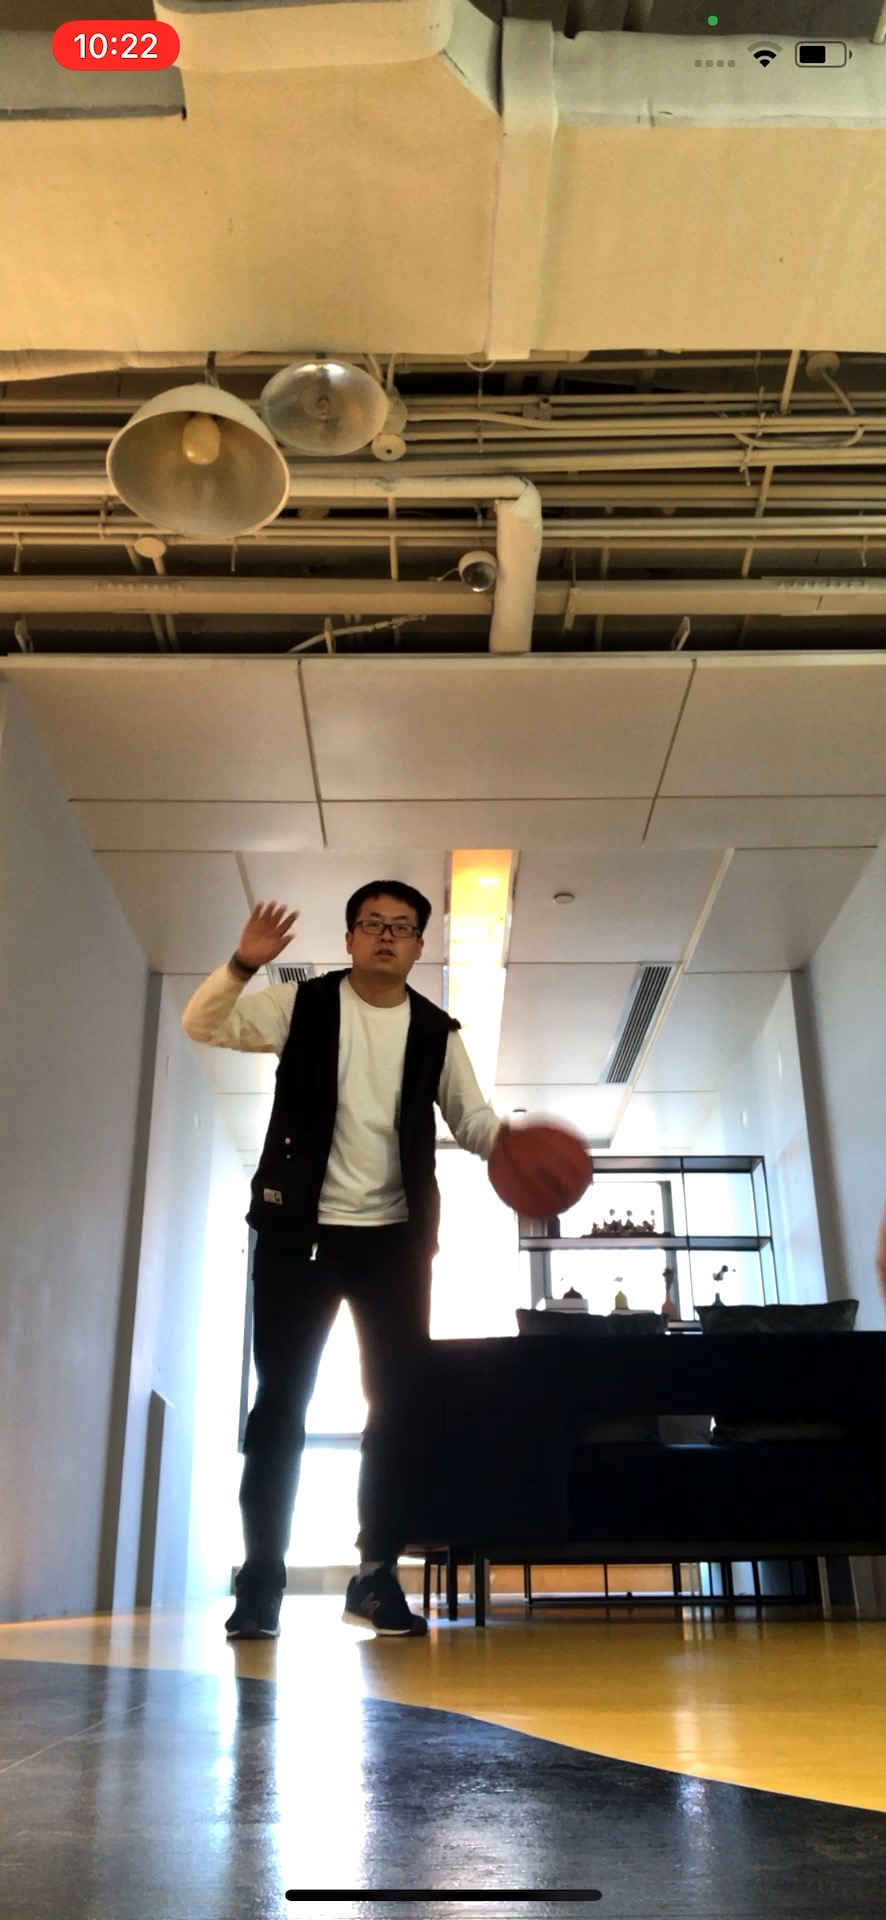ball: (488, 1119, 592, 1213)
